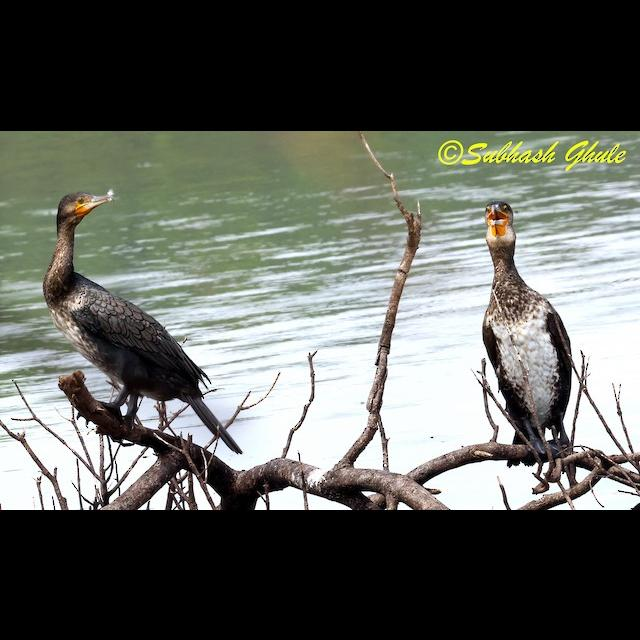cormorant: (38, 179, 252, 463), (474, 191, 602, 479)
